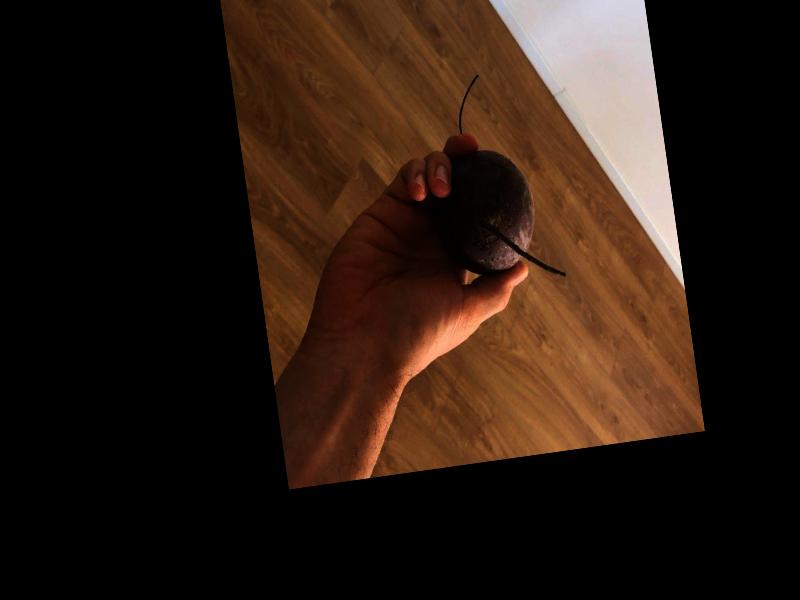Beet: (417, 65, 565, 292)
